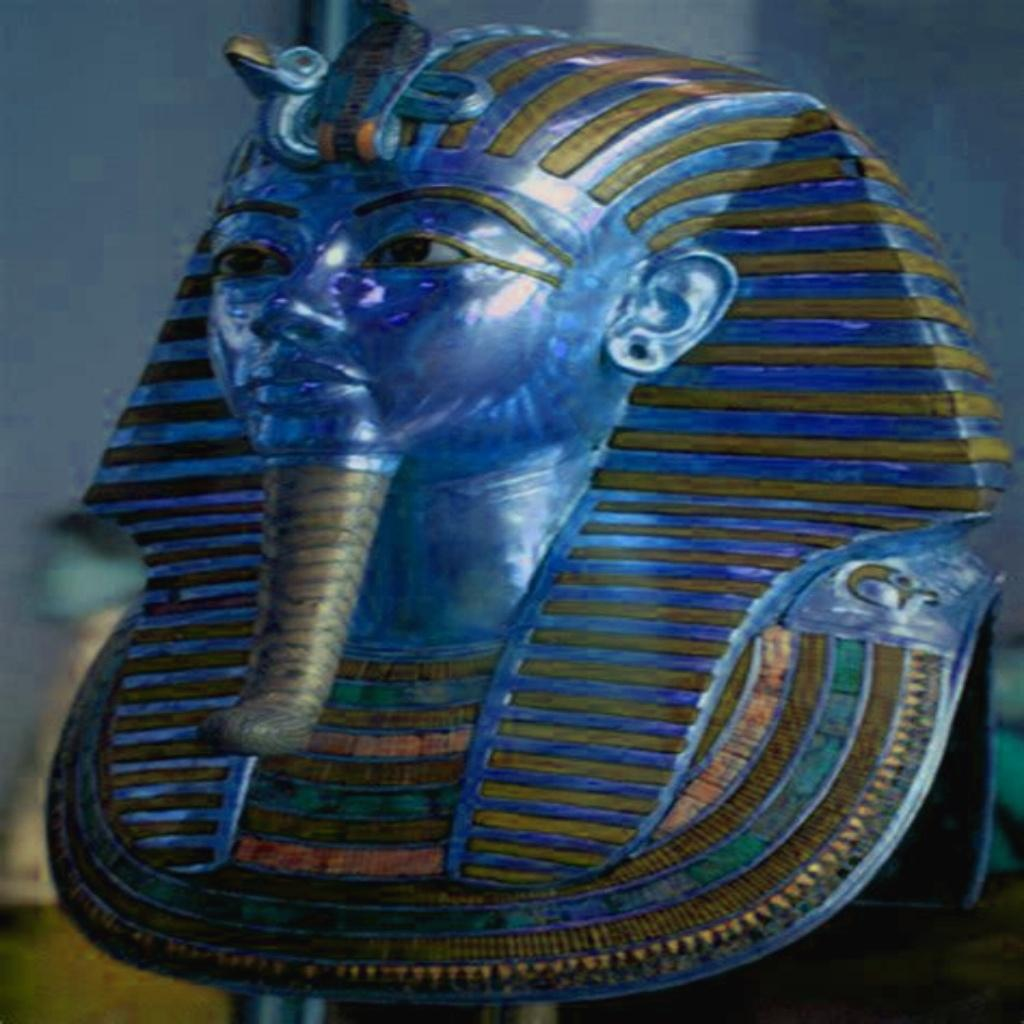Mask of Tutankhamun: (37, 2, 1013, 1006)
